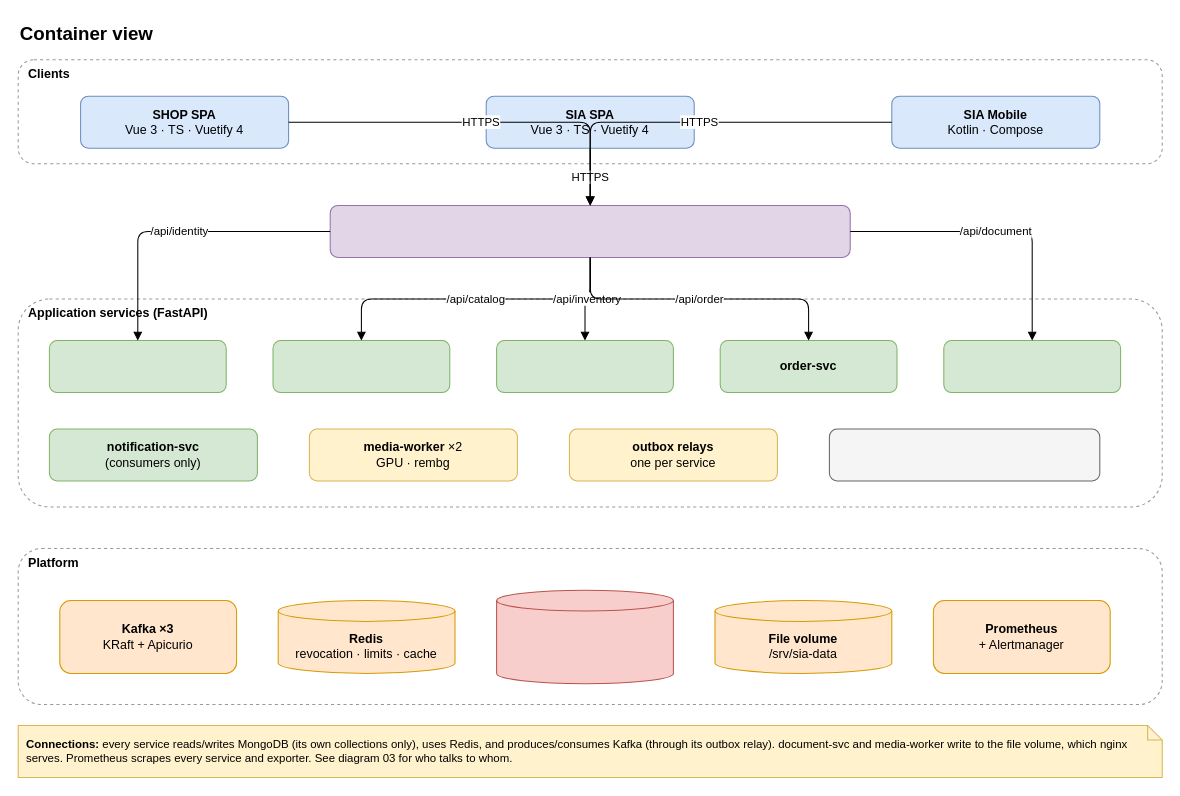
This 1180x796 diagram has some shape labels left out. Each missing label, with the centre of its shape:
catalog-svc: the point at 361,366
CIMH mail (SMTP from notification-svc): the point at 964,454
document-svc: the point at 1032,366
identity-svc: the point at 137,366
inventory-svc: the point at 584,366
MongoDB replica set host + 2 Pis: the point at 584,636
nginx TLS · routing · rate limits · static SPAs · X-Accel-Redirect: the point at 589,230
